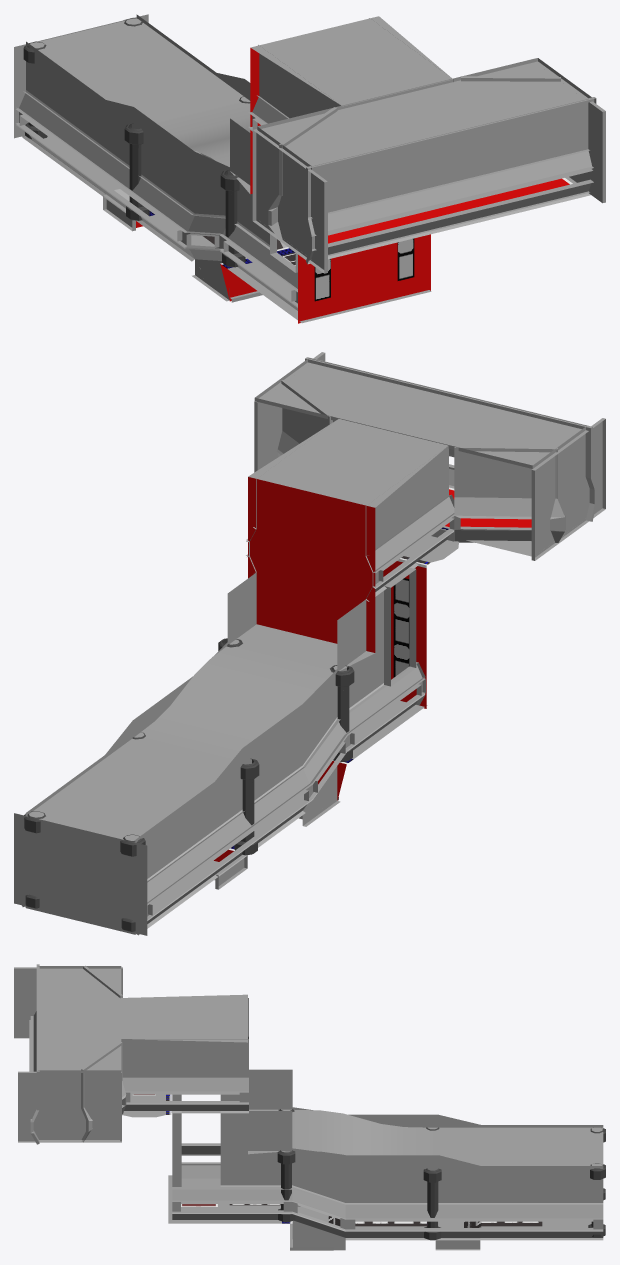
The model's file is Tutorial-Wtex.fbx.
3 views of the same model, one above another, from view 1: azimuth 30°, elevation 25°; view 2: azimuth 150°, elevation 25°; view 3: azimuth 270°, elevation 25° (orthographic). The views are drawn at different scales.
Parts seen in each view (by area): view 1: polySurface12, polySurface25, polySurface28, group5_pCube4, polySurface30, polySurface27, group3_pCube7, group3_pCube6, polySurface19, polySurface21, group5_pCube5, polySurface8 (+11 smaller); view 2: polySurface12, group5_pCube4, polySurface28, polySurface10, polySurface24, group3_pCube7, polySurface27, polySurface30, group3_pCube6, group5_pCube5, group1_pCube8, polySurface19 (+9 smaller); view 3: group1_pCube8, polySurface12, polySurface28, polySurface26, group1_pCube9, group1_pCube12, polySurface22, group5_pCube4, group1_pCube7, group1_pCube11, polySurface8, polySurface27 (+13 smaller).
Boxes of the visible parts, left/top/right/bottom form: polySurface12: left=30, top=16, right=452, bottom=194; polySurface25: left=306, top=97, right=596, bottom=264; polySurface28: left=257, top=58, right=592, bottom=169; group5_pCube4: left=26, top=41, right=297, bottom=272; polySurface30: left=298, top=234, right=430, bottom=323; polySurface27: left=252, top=129, right=327, bottom=273; group3_pCube7: left=16, top=91, right=297, bottom=290; group3_pCube6: left=15, top=108, right=297, bottom=306; polySurface19: left=16, top=124, right=297, bottom=310; polySurface21: left=328, top=177, right=589, bottom=256; group5_pCube5: left=258, top=45, right=340, bottom=118; polySurface8: left=220, top=247, right=431, bottom=323; polySurface12: left=27, top=419, right=447, bottom=840; group5_pCube4: left=135, top=567, right=416, bottom=880; polySurface28: left=254, top=358, right=586, bottom=468; polySurface10: left=14, top=813, right=147, bottom=935; polySurface24: left=454, top=446, right=565, bottom=542; group3_pCube7: left=139, top=662, right=425, bottom=903; polySurface27: left=531, top=418, right=605, bottom=560; polySurface30: left=383, top=536, right=458, bottom=708; group3_pCube6: left=143, top=678, right=425, bottom=920; group5_pCube5: left=365, top=445, right=448, bottom=555; group1_pCube8: left=25, top=572, right=256, bottom=815; polySurface19: left=135, top=694, right=425, bottom=935; group1_pCube8: left=172, top=1111, right=603, bottom=1204; polySurface12: left=120, top=994, right=603, bottom=1165; polySurface28: left=38, top=966, right=121, bottom=1072; polySurface26: left=18, top=1071, right=121, bottom=1142; group1_pCube9: left=172, top=1187, right=603, bottom=1218; group1_pCube12: left=121, top=1039, right=248, bottom=1077; polySurface22: left=172, top=1213, right=603, bottom=1250; group5_pCube4: left=172, top=1069, right=603, bottom=1154; group1_pCube7: left=172, top=1200, right=603, bottom=1230; group1_pCube11: left=122, top=1077, right=248, bottom=1091; polySurface8: left=168, top=1175, right=292, bottom=1223; polySurface27: left=14, top=967, right=122, bottom=1038.
Bounding box in the file's own units: 42.85 × 38.38 × 97.22.
